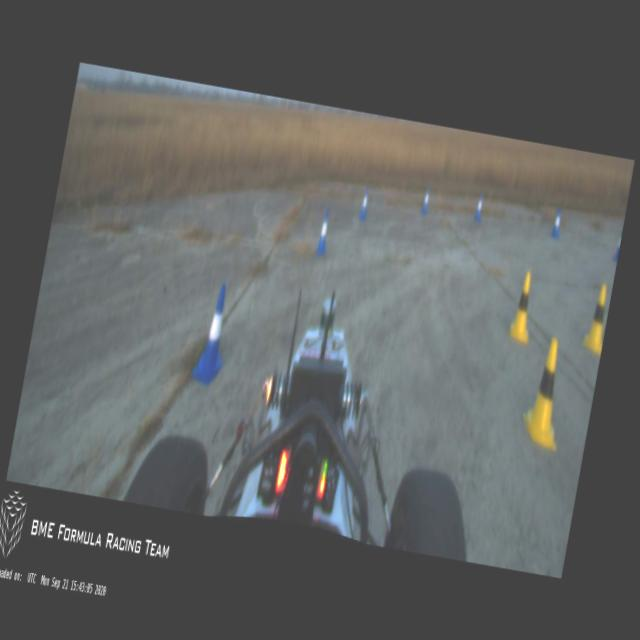blue_cone: (193, 284, 235, 385), (314, 210, 332, 256), (472, 192, 486, 224), (549, 206, 563, 238), (358, 187, 370, 220), (611, 228, 622, 262), (420, 186, 432, 216)
yellow_cone: (519, 336, 572, 446), (580, 281, 612, 357), (508, 271, 538, 341)
